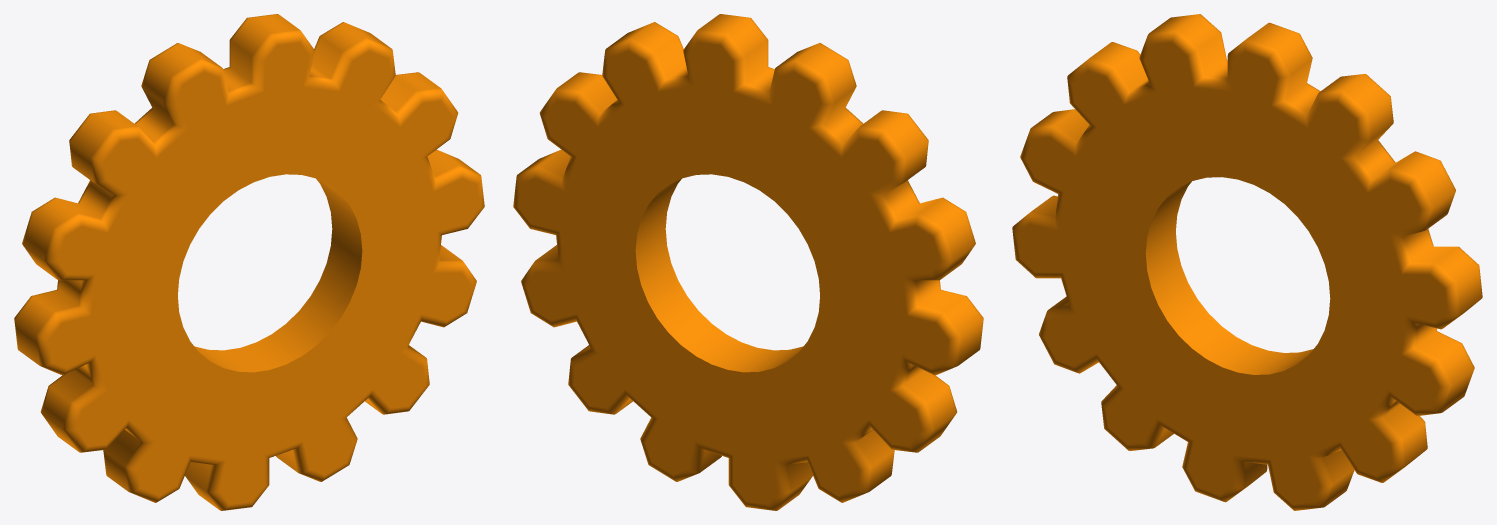
File: Cogwheel.fbx
The picture shows the model from 3 angles, left to right: view 1: azimuth 30°, elevation 25°; view 2: azimuth 150°, elevation 25°; view 3: azimuth 330°, elevation 25°; orthographic projection.
Visible parts, largest first — view 1: Cap 1, Rounding 1, Extrude NURBS, Oil Tank, Rounding 2; view 2: Cap 2, Rounding 2, Extrude NURBS, Oil Tank, Rounding 1; view 3: Cap 1, Rounding 1, Extrude NURBS, Oil Tank, Rounding 2.
Part boxes in pixels (box(x1,y1,x2,y2)): Cap 1: box(49, 42, 479, 504); Rounding 1: box(36, 30, 484, 510); Extrude NURBS: box(15, 14, 478, 509); Oil Tank: box(194, 178, 362, 372); Rounding 2: box(14, 14, 457, 494); Cap 2: box(518, 42, 948, 504); Rounding 2: box(513, 30, 961, 510); Extrude NURBS: box(519, 14, 982, 509); Oil Tank: box(635, 178, 803, 372); Rounding 1: box(540, 14, 983, 494); Cap 1: box(1017, 42, 1447, 504); Rounding 1: box(1012, 30, 1460, 510); Extrude NURBS: box(1031, 14, 1481, 506); Oil Tank: box(1145, 181, 1313, 374); Rounding 2: box(1052, 14, 1482, 490).
Bounding box in the file's own units: 4.46 × 4.46 × 0.52.
